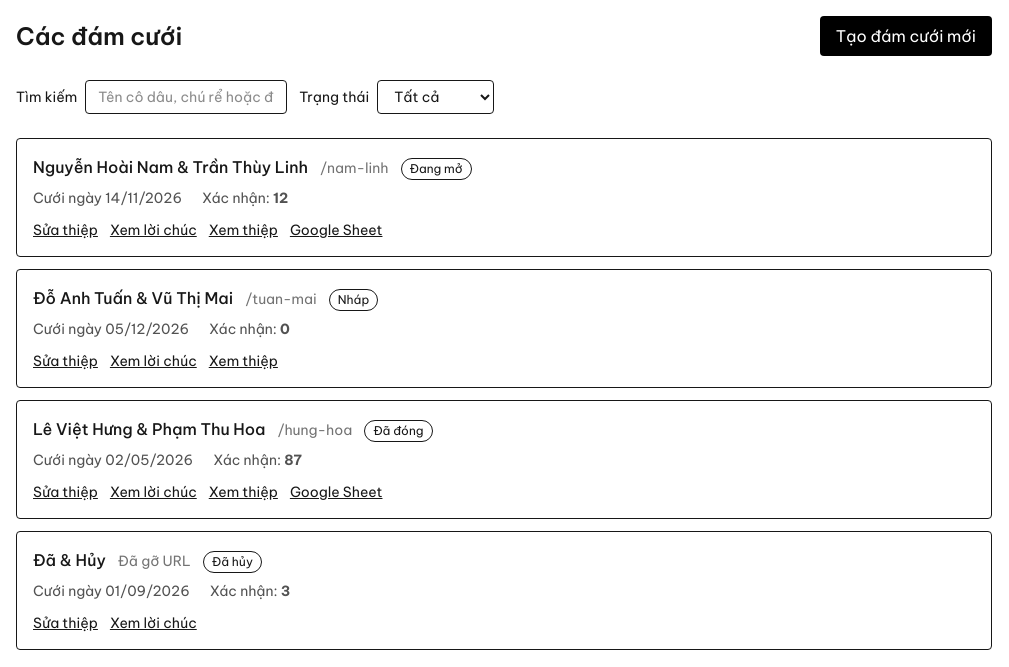
Scenario: BangDieuKhien › báo khi không có kết quả nào khớp
This screenshot has width=1009, height=667.
Type "khong-co-ai" into the field labelled "Tìm kiếm" at (186, 97), box top-left (85, 80), bottom-right (287, 114)
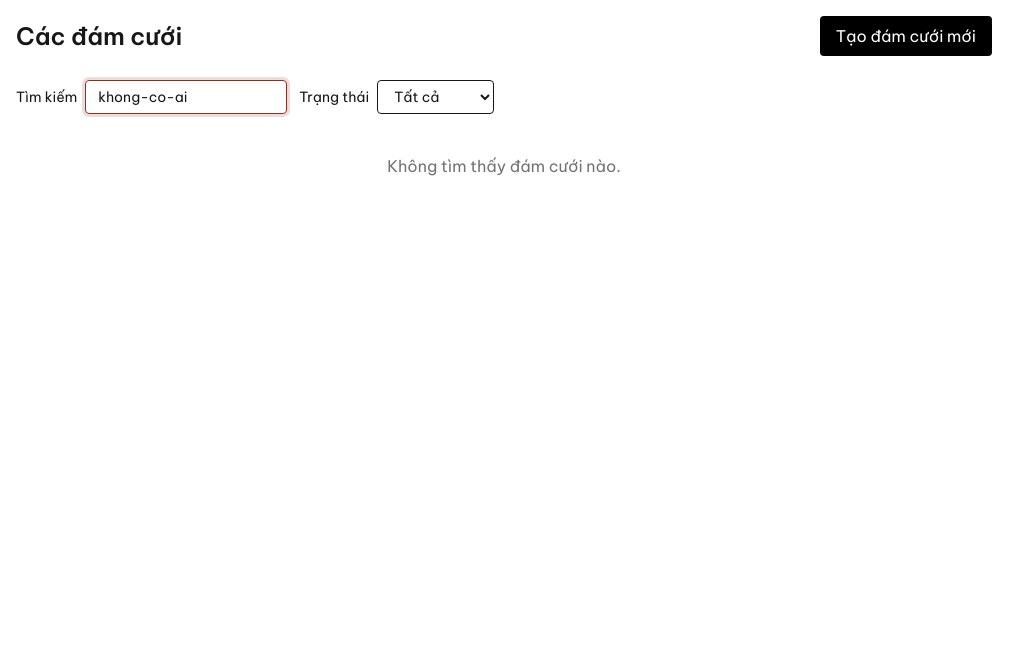
Result: the text "Không tìm thấy đám cưới nào." is shown at top-left (387, 156), bottom-right (621, 176)
